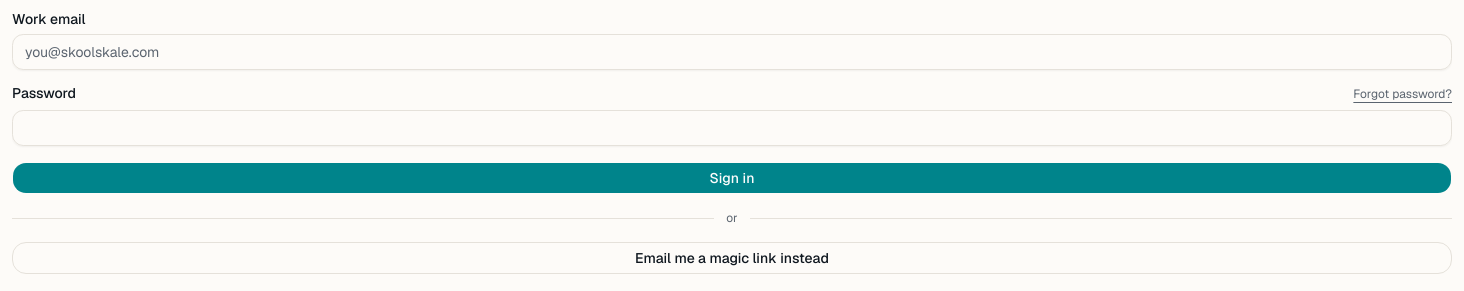
Test case: LoginForm — magic link fallback › confirms to the user which address the link went to
Type "ramsha@skoolskale.com" into the field labelled "Work email".
click(732, 52); type("ramsha@skoolskale.com")  # box 12,34 -> 1452,70
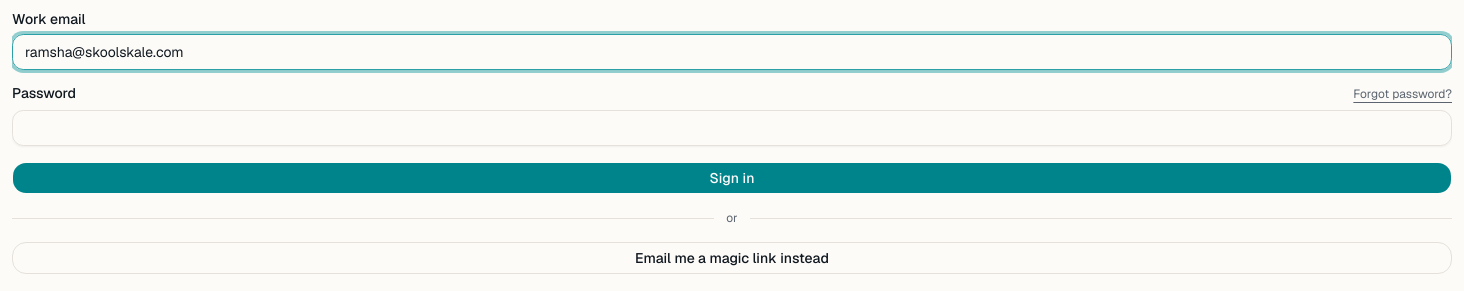
Click the button "Email me a magic link instead".
click(732, 258)  # box 12,242 -> 1452,274
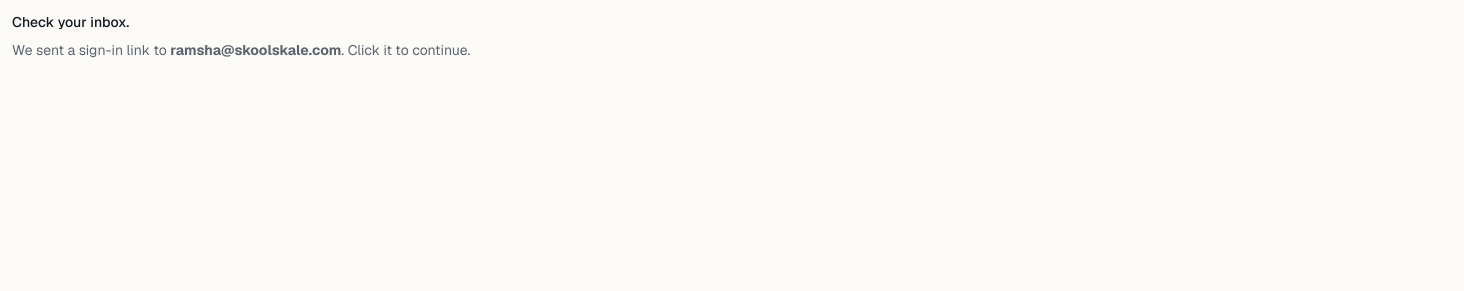
Expected: the text "ramsha@skoolskale.com" is shown, 170,41 -> 341,59
